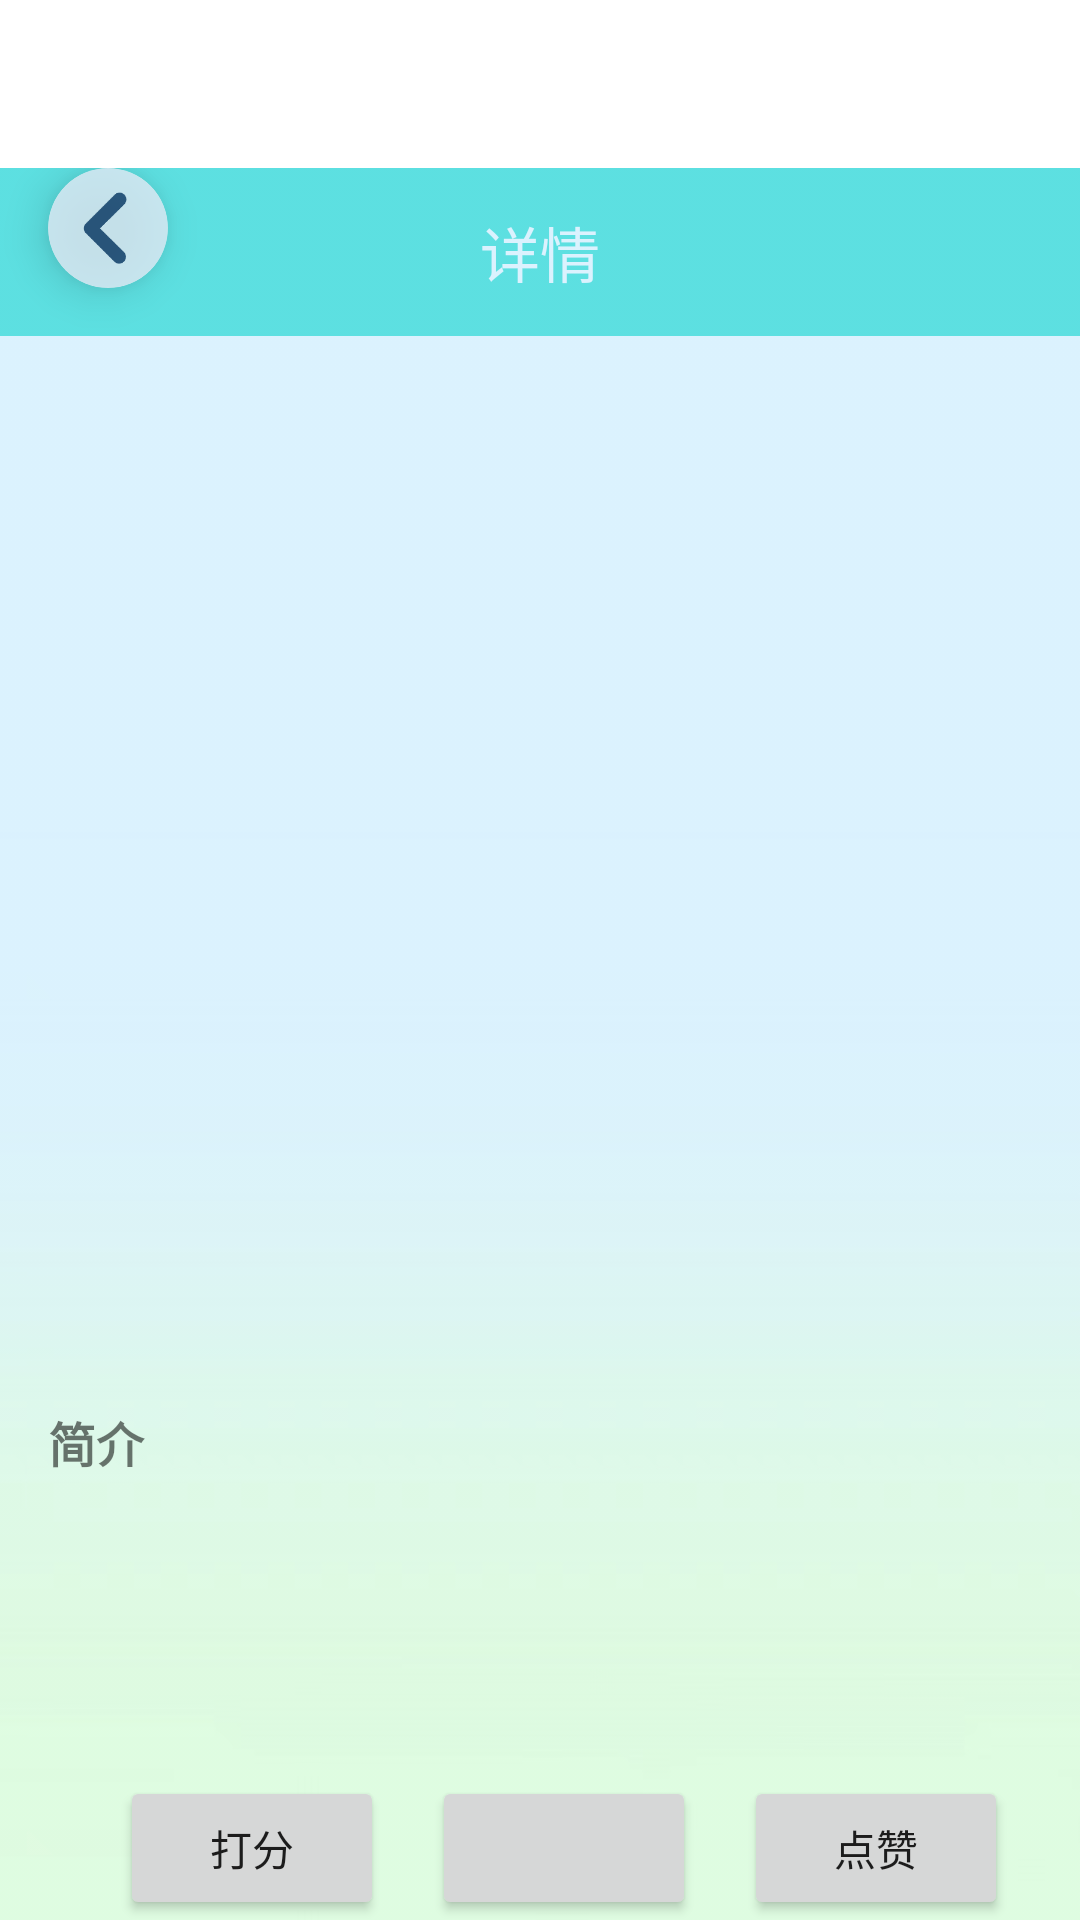

Named icons in this screenshot (1080px×1920px) and their centers, [x,y]:
backbutton: [108,228]
